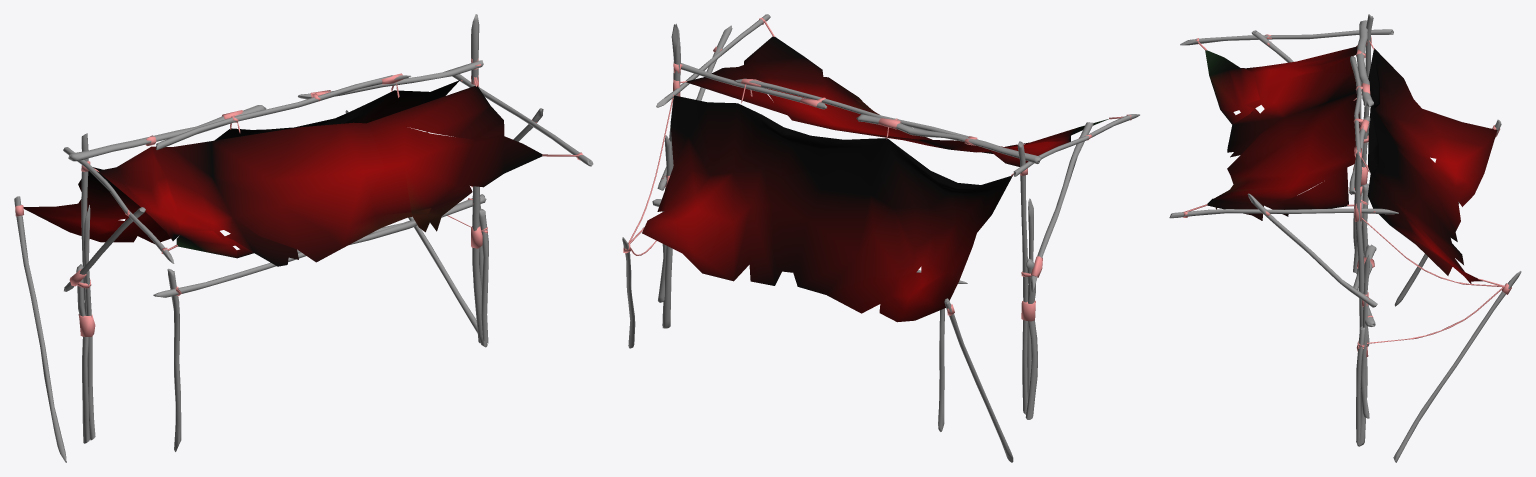
Rendered from tent_wooden_tribals_generic_village_h.gltf.
3 renders of one model, left to right at view 1: azimuth 30°, elevation 25°; view 2: azimuth 150°, elevation 25°; view 3: azimuth 270°, elevation 25°, orthographic. The views are drawn at different scales.
Visible parts, largest first — view 1: tent_wooden_tribals_generic_village_h; view 2: tent_wooden_tribals_generic_village_h; view 3: tent_wooden_tribals_generic_village_h.
Boxes of the visible parts, left/top/right/bottom form: tent_wooden_tribals_generic_village_h: left=14, top=14, right=593, bottom=462; tent_wooden_tribals_generic_village_h: left=622, top=14, right=1139, bottom=462; tent_wooden_tribals_generic_village_h: left=1169, top=14, right=1521, bottom=462.
Size of the model in its own units: 5.77 by 4.68 by 4.63.
